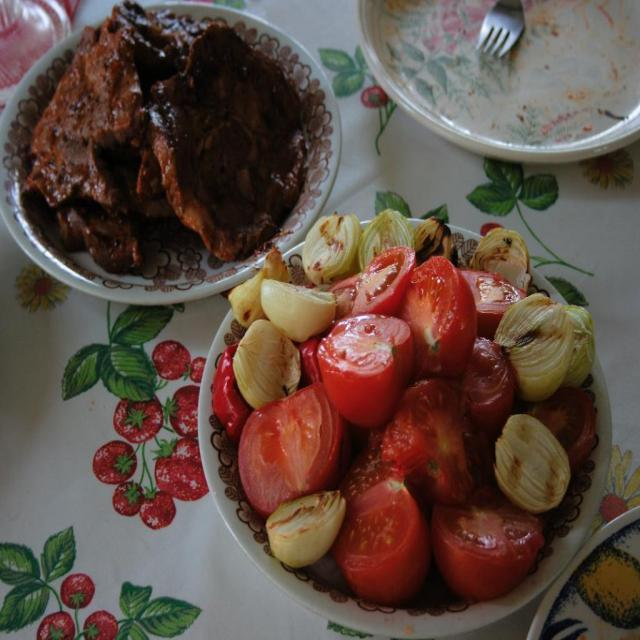Tomato: (237, 382, 341, 517), (339, 433, 419, 605), (314, 324, 424, 438), (433, 493, 545, 601), (397, 253, 479, 376), (350, 244, 416, 314), (151, 440, 207, 506), (163, 381, 203, 440), (112, 399, 160, 443), (92, 439, 136, 485), (151, 340, 189, 382), (141, 487, 176, 529), (59, 572, 97, 610), (37, 610, 75, 639), (113, 485, 143, 519), (85, 612, 119, 640), (186, 356, 207, 389)
